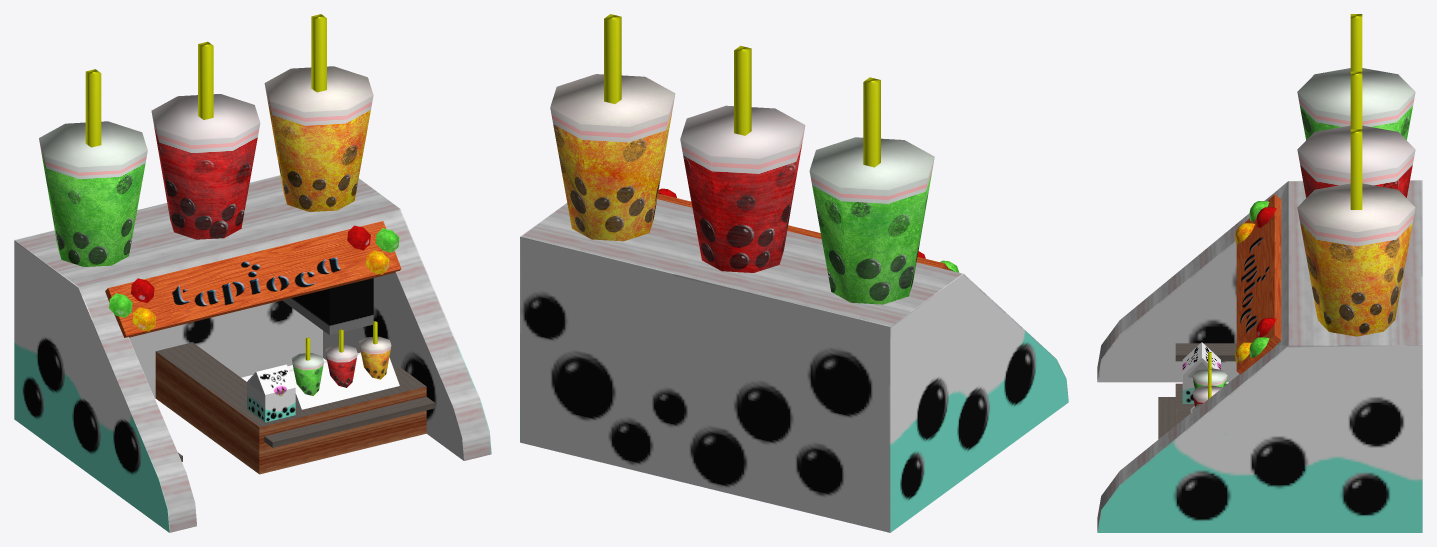
The model's file is tapioka.fbx.
The picture shows the model from 3 angles, left to right: view 1: azimuth 30°, elevation 25°; view 2: azimuth 150°, elevation 25°; view 3: azimuth 270°, elevation 25°; orthographic projection. The views are drawn at different scales.
Parts seen in each view (by area): view 1: polySurface52; view 2: polySurface52; view 3: polySurface52.
Part boxes in pixels (bbox=[...]): polySurface52: bbox=[14, 14, 491, 532]; polySurface52: bbox=[520, 14, 1068, 532]; polySurface52: bbox=[1097, 14, 1422, 532].
Bounding box in the file's own units: 6.2 × 6.57 × 5.16.
